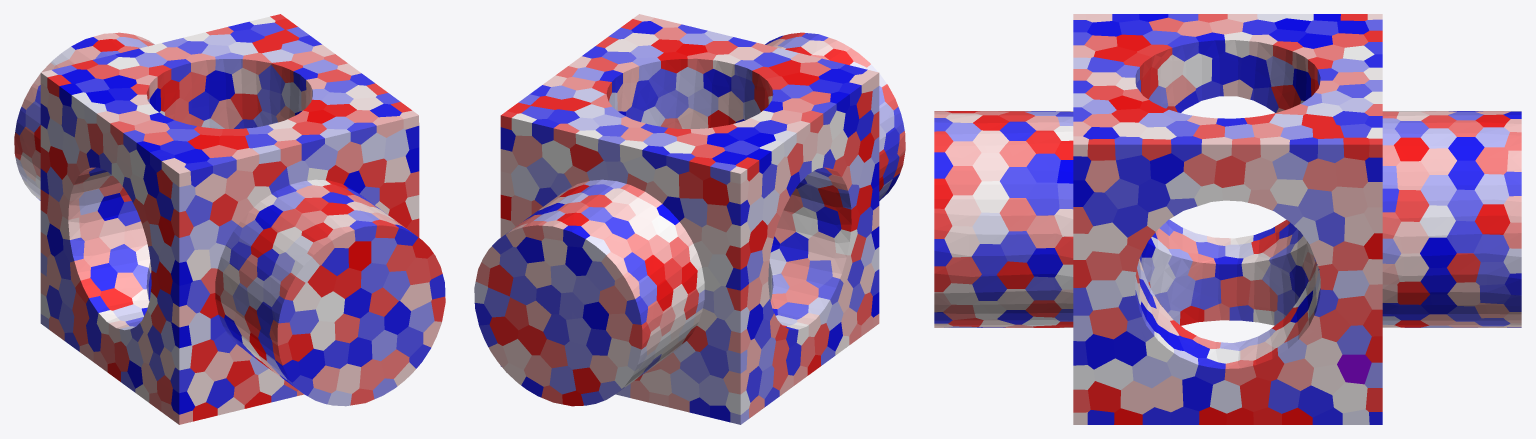
The model's file is Ours_1000_block_Iter45_RVD.obj.
The picture shows the model from 3 angles, left to right: view 1: azimuth 30°, elevation 25°; view 2: azimuth 150°, elevation 25°; view 3: azimuth 270°, elevation 25°; orthographic projection. The views are drawn at different scales.
Visible parts, largest first — view 1: 3D_Object; view 2: 3D_Object; view 3: 3D_Object.
Boxes of the visible parts, <box> form: 3D_Object: <box>14,14,445,424</box>; 3D_Object: <box>474,14,905,424</box>; 3D_Object: <box>934,14,1521,424</box>.
Size of the model in its own units: 20 by 20 by 38.
1 material, 1 textured.
